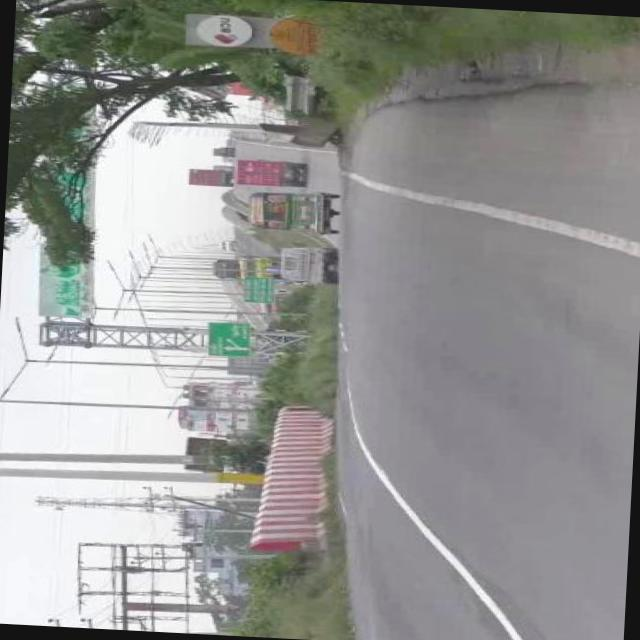motorcycle: (242, 186, 344, 235)
truck: (224, 150, 310, 187), (275, 237, 337, 284), (184, 164, 232, 186)
